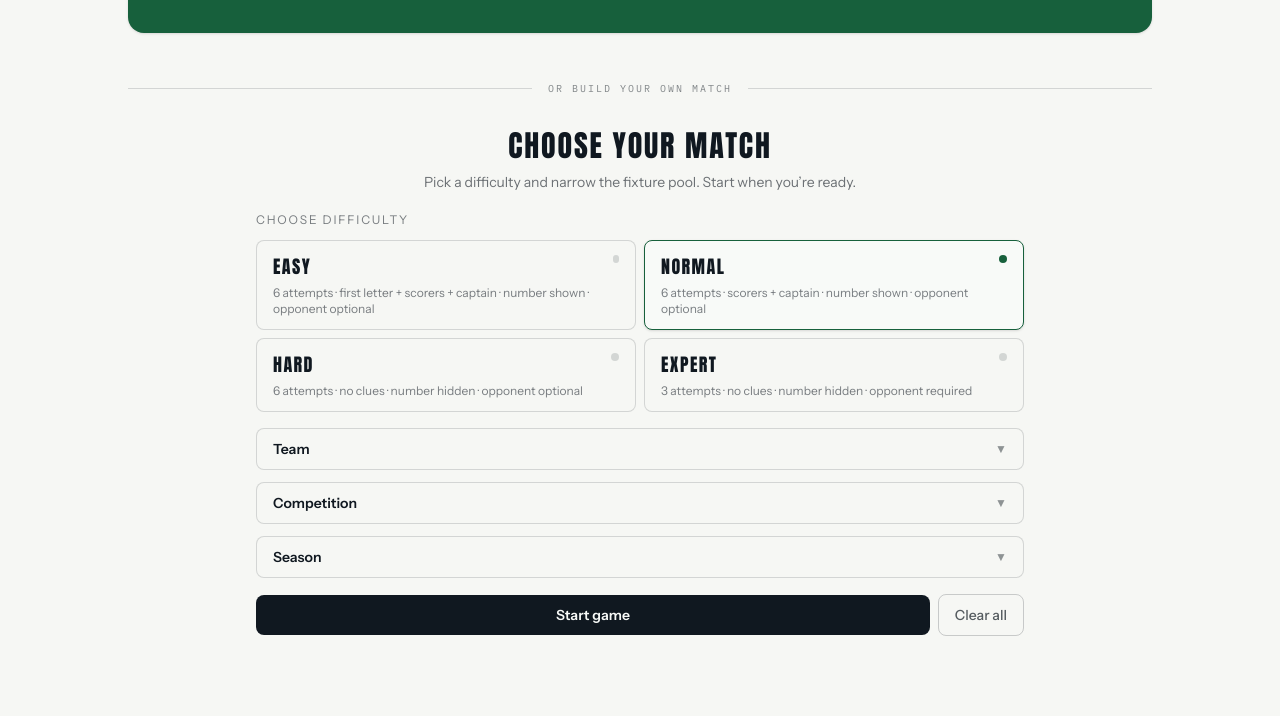
Scenario: missing-eleven pre-screen gate › does not offer the daily puzzle from inside a custom match
(page scrolled)
What coordinates should you click on to do the following:
click the button "Start game"
I would click on:
 (593, 615)
Its box is [256,595,930,635].
(page scrolled)
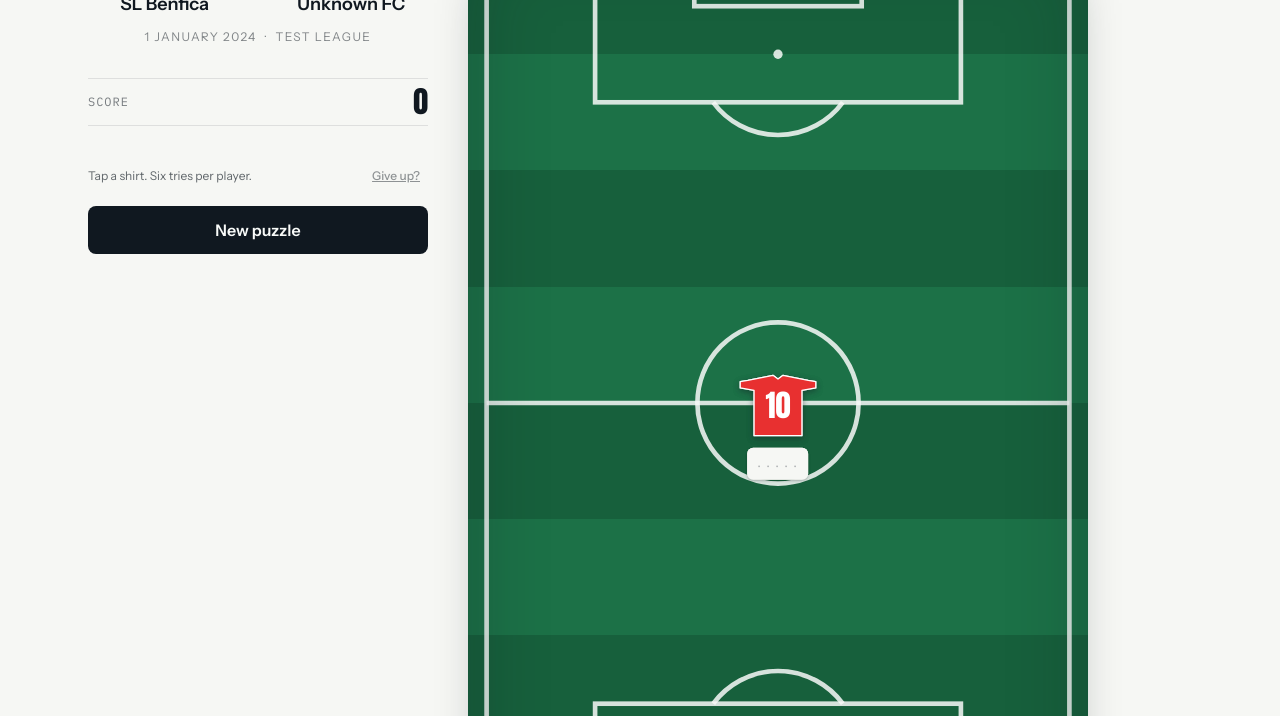
Expected: the button "New puzzle" is shown, [88,206,428,254]
